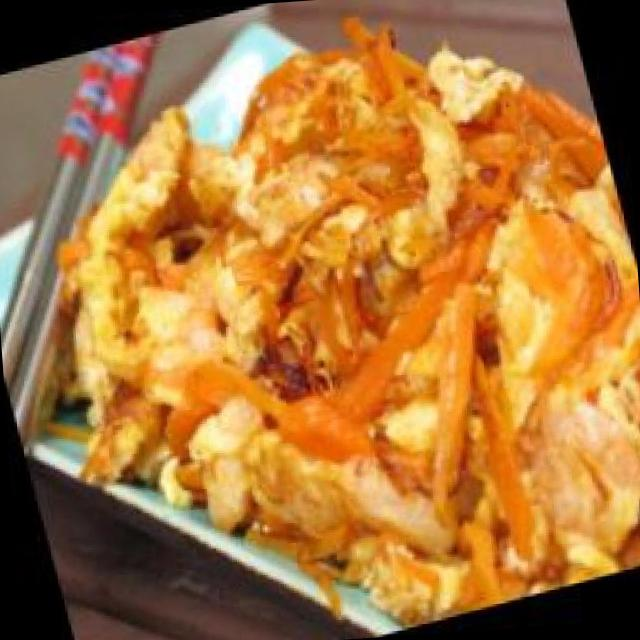carrot_eggs: (15, 0, 640, 640)
